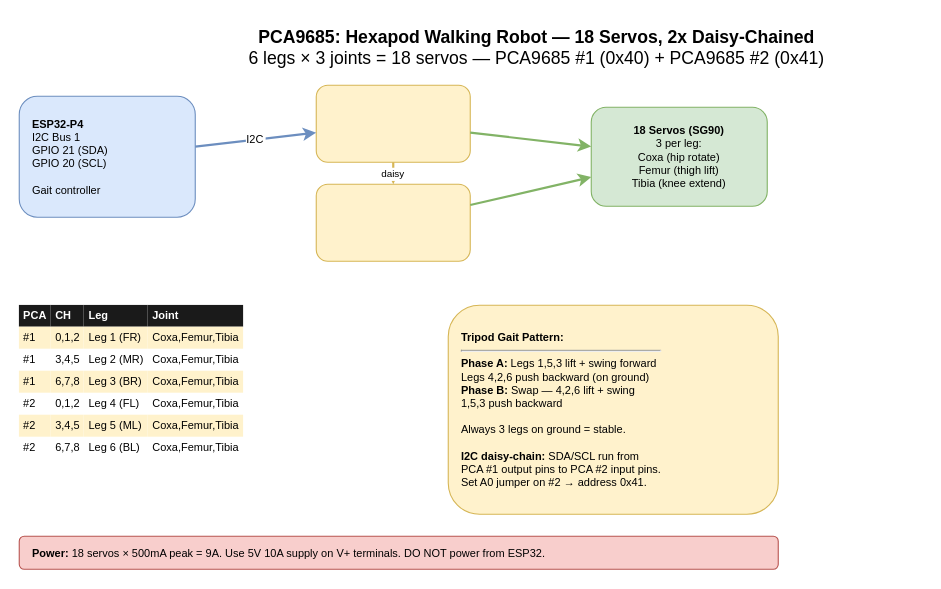
Some shapes in this 941 by 589 pixel diagram are drawn without their labels. Each missing label, with the centre of its shape:
"PCA9685 #1 (0x40) CH0–CH8 Legs 1–3" goes at point (392, 123).
"PCA9685 #2 (0x41) CH0–CH8 Legs 4–6" goes at point (392, 222).
